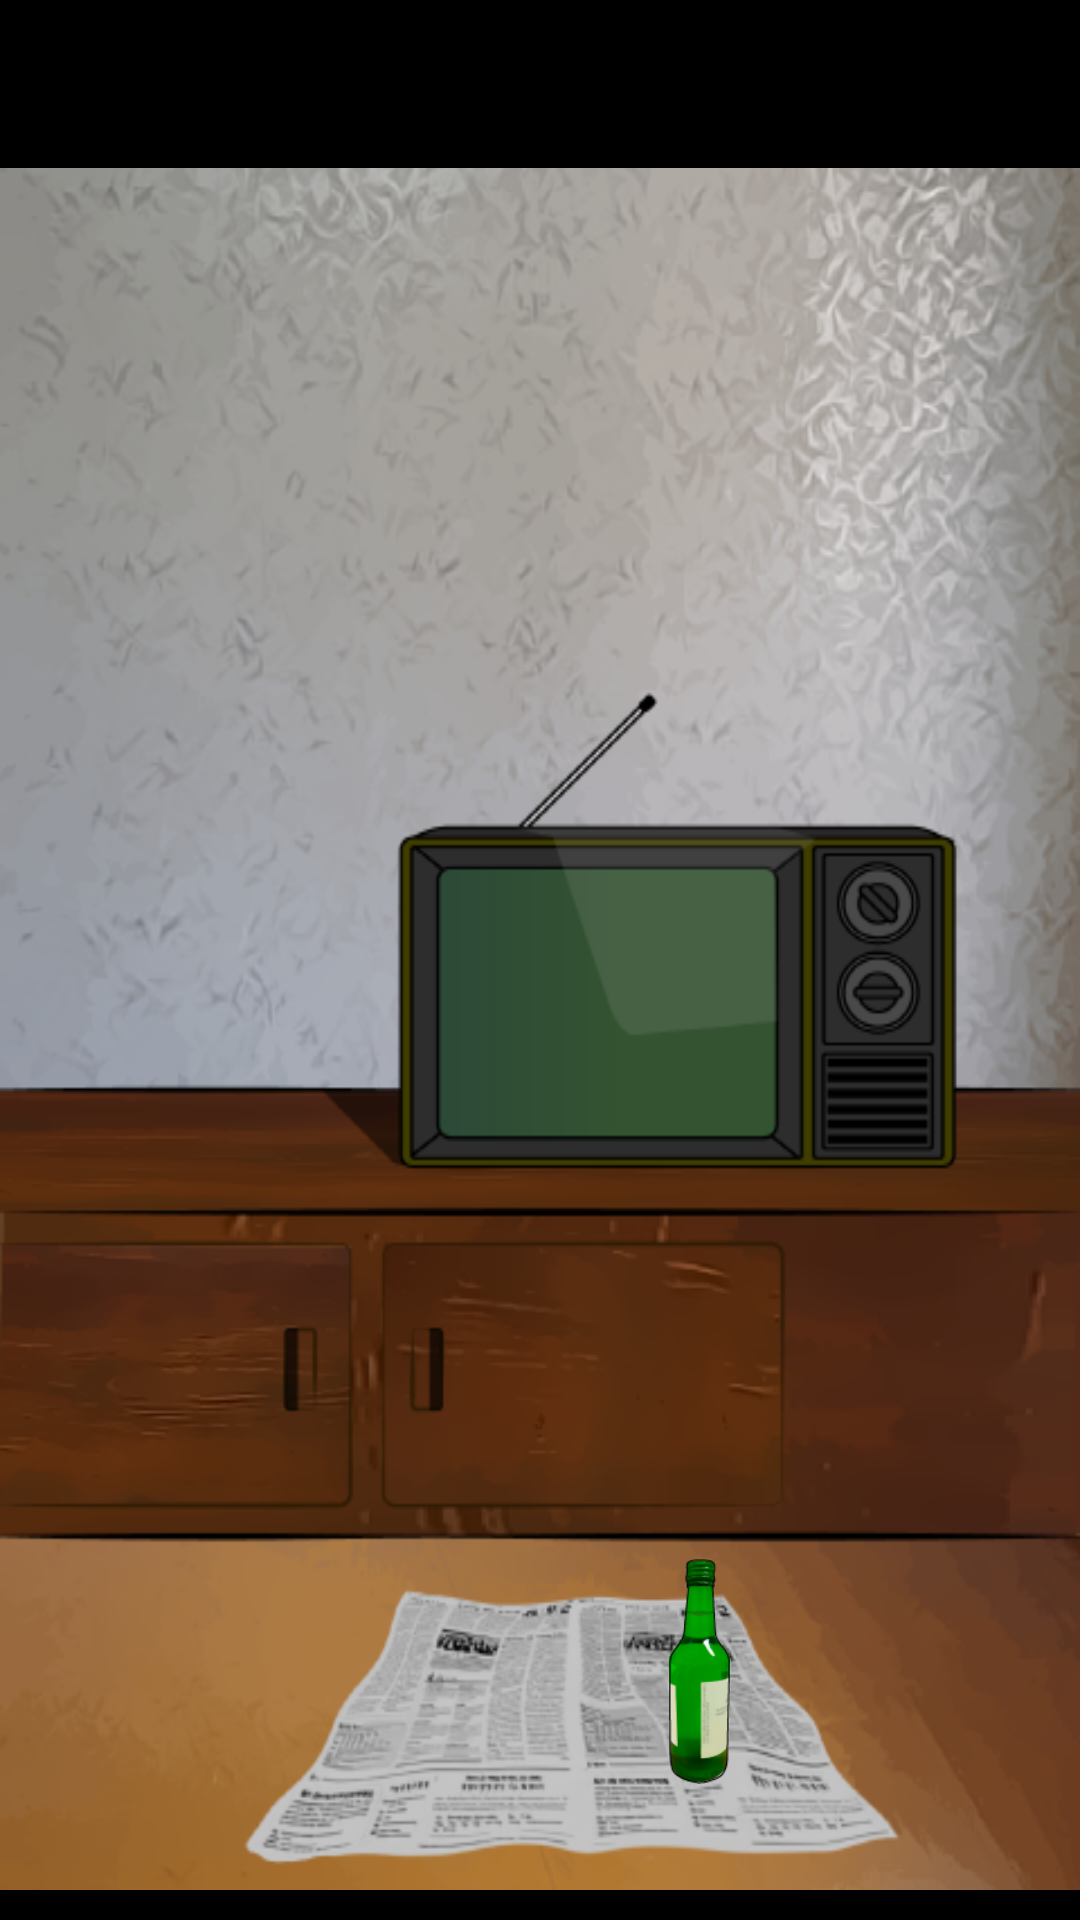

Icons on this 1080×1920 Android screen, each with the point to tap as (x=x, y=y):
sojubottle: (x=699, y=1671)
